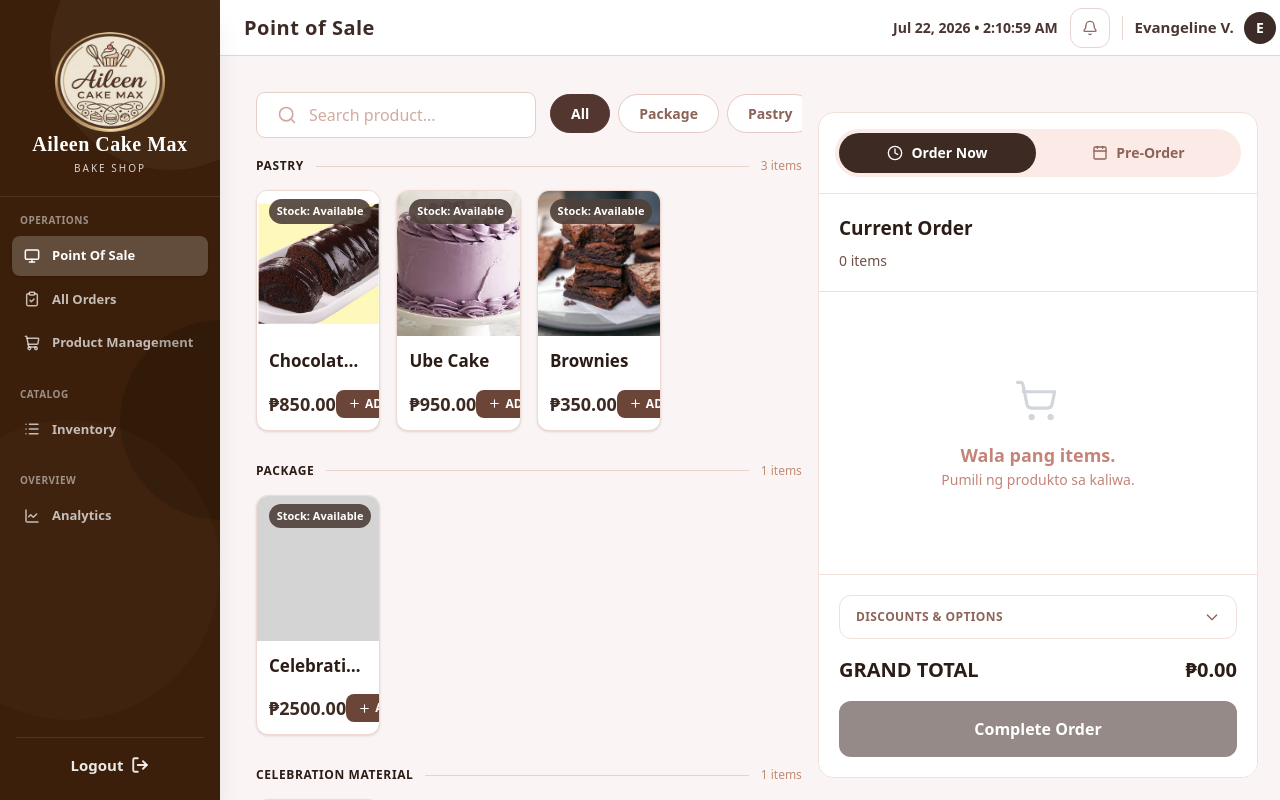
Test: inventory routes and connections › Sidebar navigation links › should navigate to Inventory when the Sidebar Inventory link is clicked
Click the link "Inventory": (70, 428) [24,420,116,438]
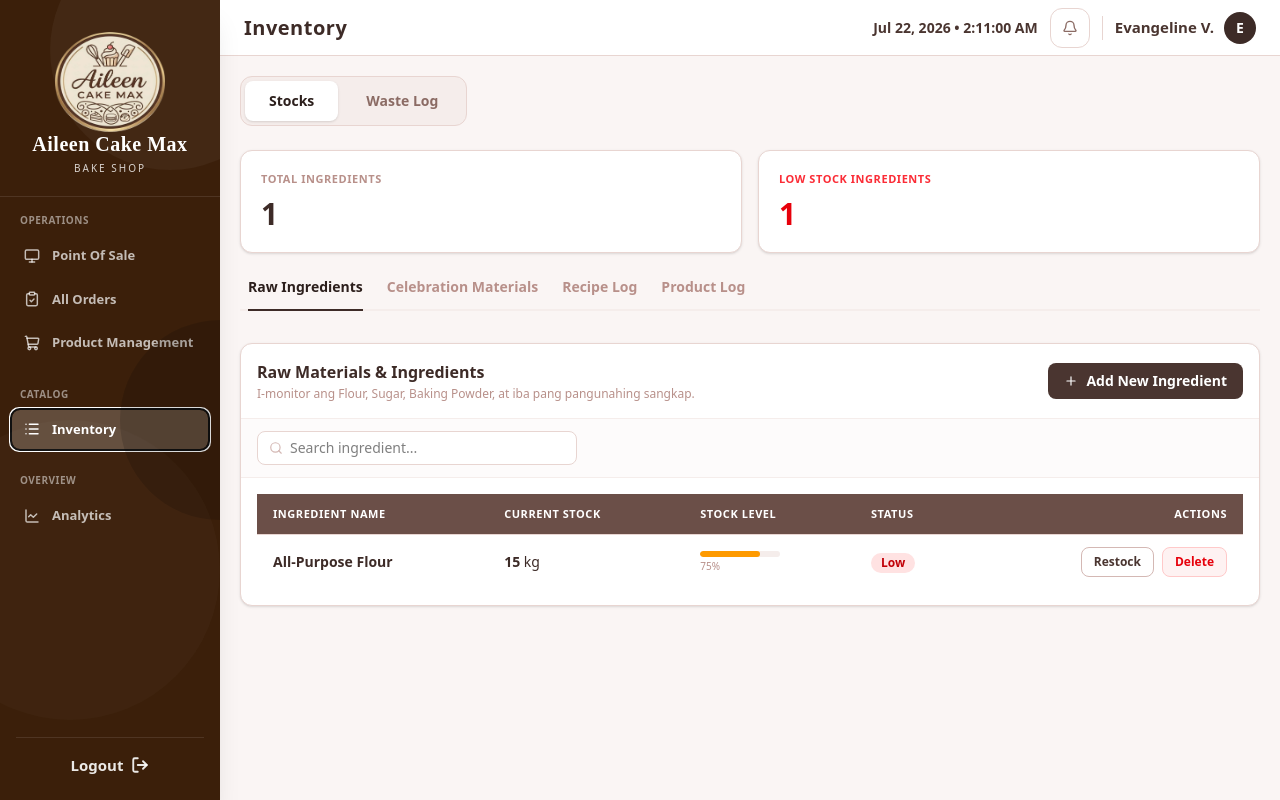
expect the button "Waste Log" is shown: met, box [342,81,462,121]
